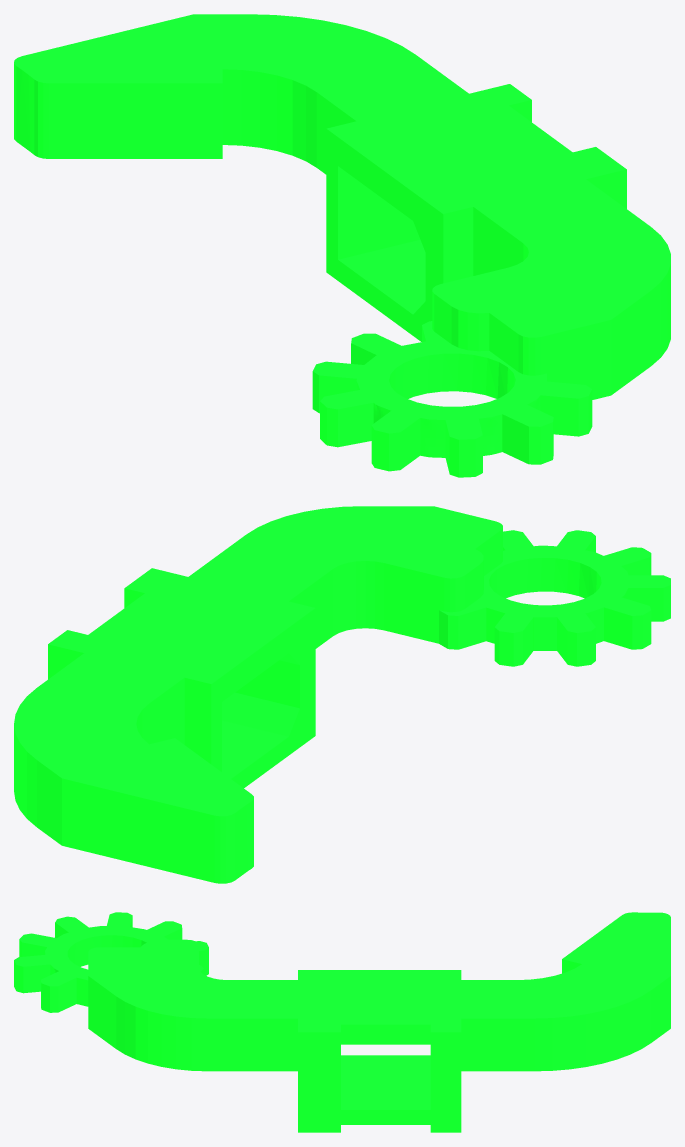
The model's file is direita.dae.
3 views of the same model, one above another, from view 1: azimuth 30°, elevation 25°; view 2: azimuth 150°, elevation 25°; view 3: azimuth 270°, elevation 25° (orthographic). The views are drawn at different scales.
Visible parts, largest first — view 1: Direita; view 2: Direita; view 3: Direita.
Boxes of the visible parts, left/top/right/bottom form: Direita: left=14, top=14, right=670, bottom=477; Direita: left=14, top=506, right=670, bottom=883; Direita: left=14, top=912, right=670, bottom=1132.
Size of the model in its own units: 29.76 by 56.37 by 9.5.
